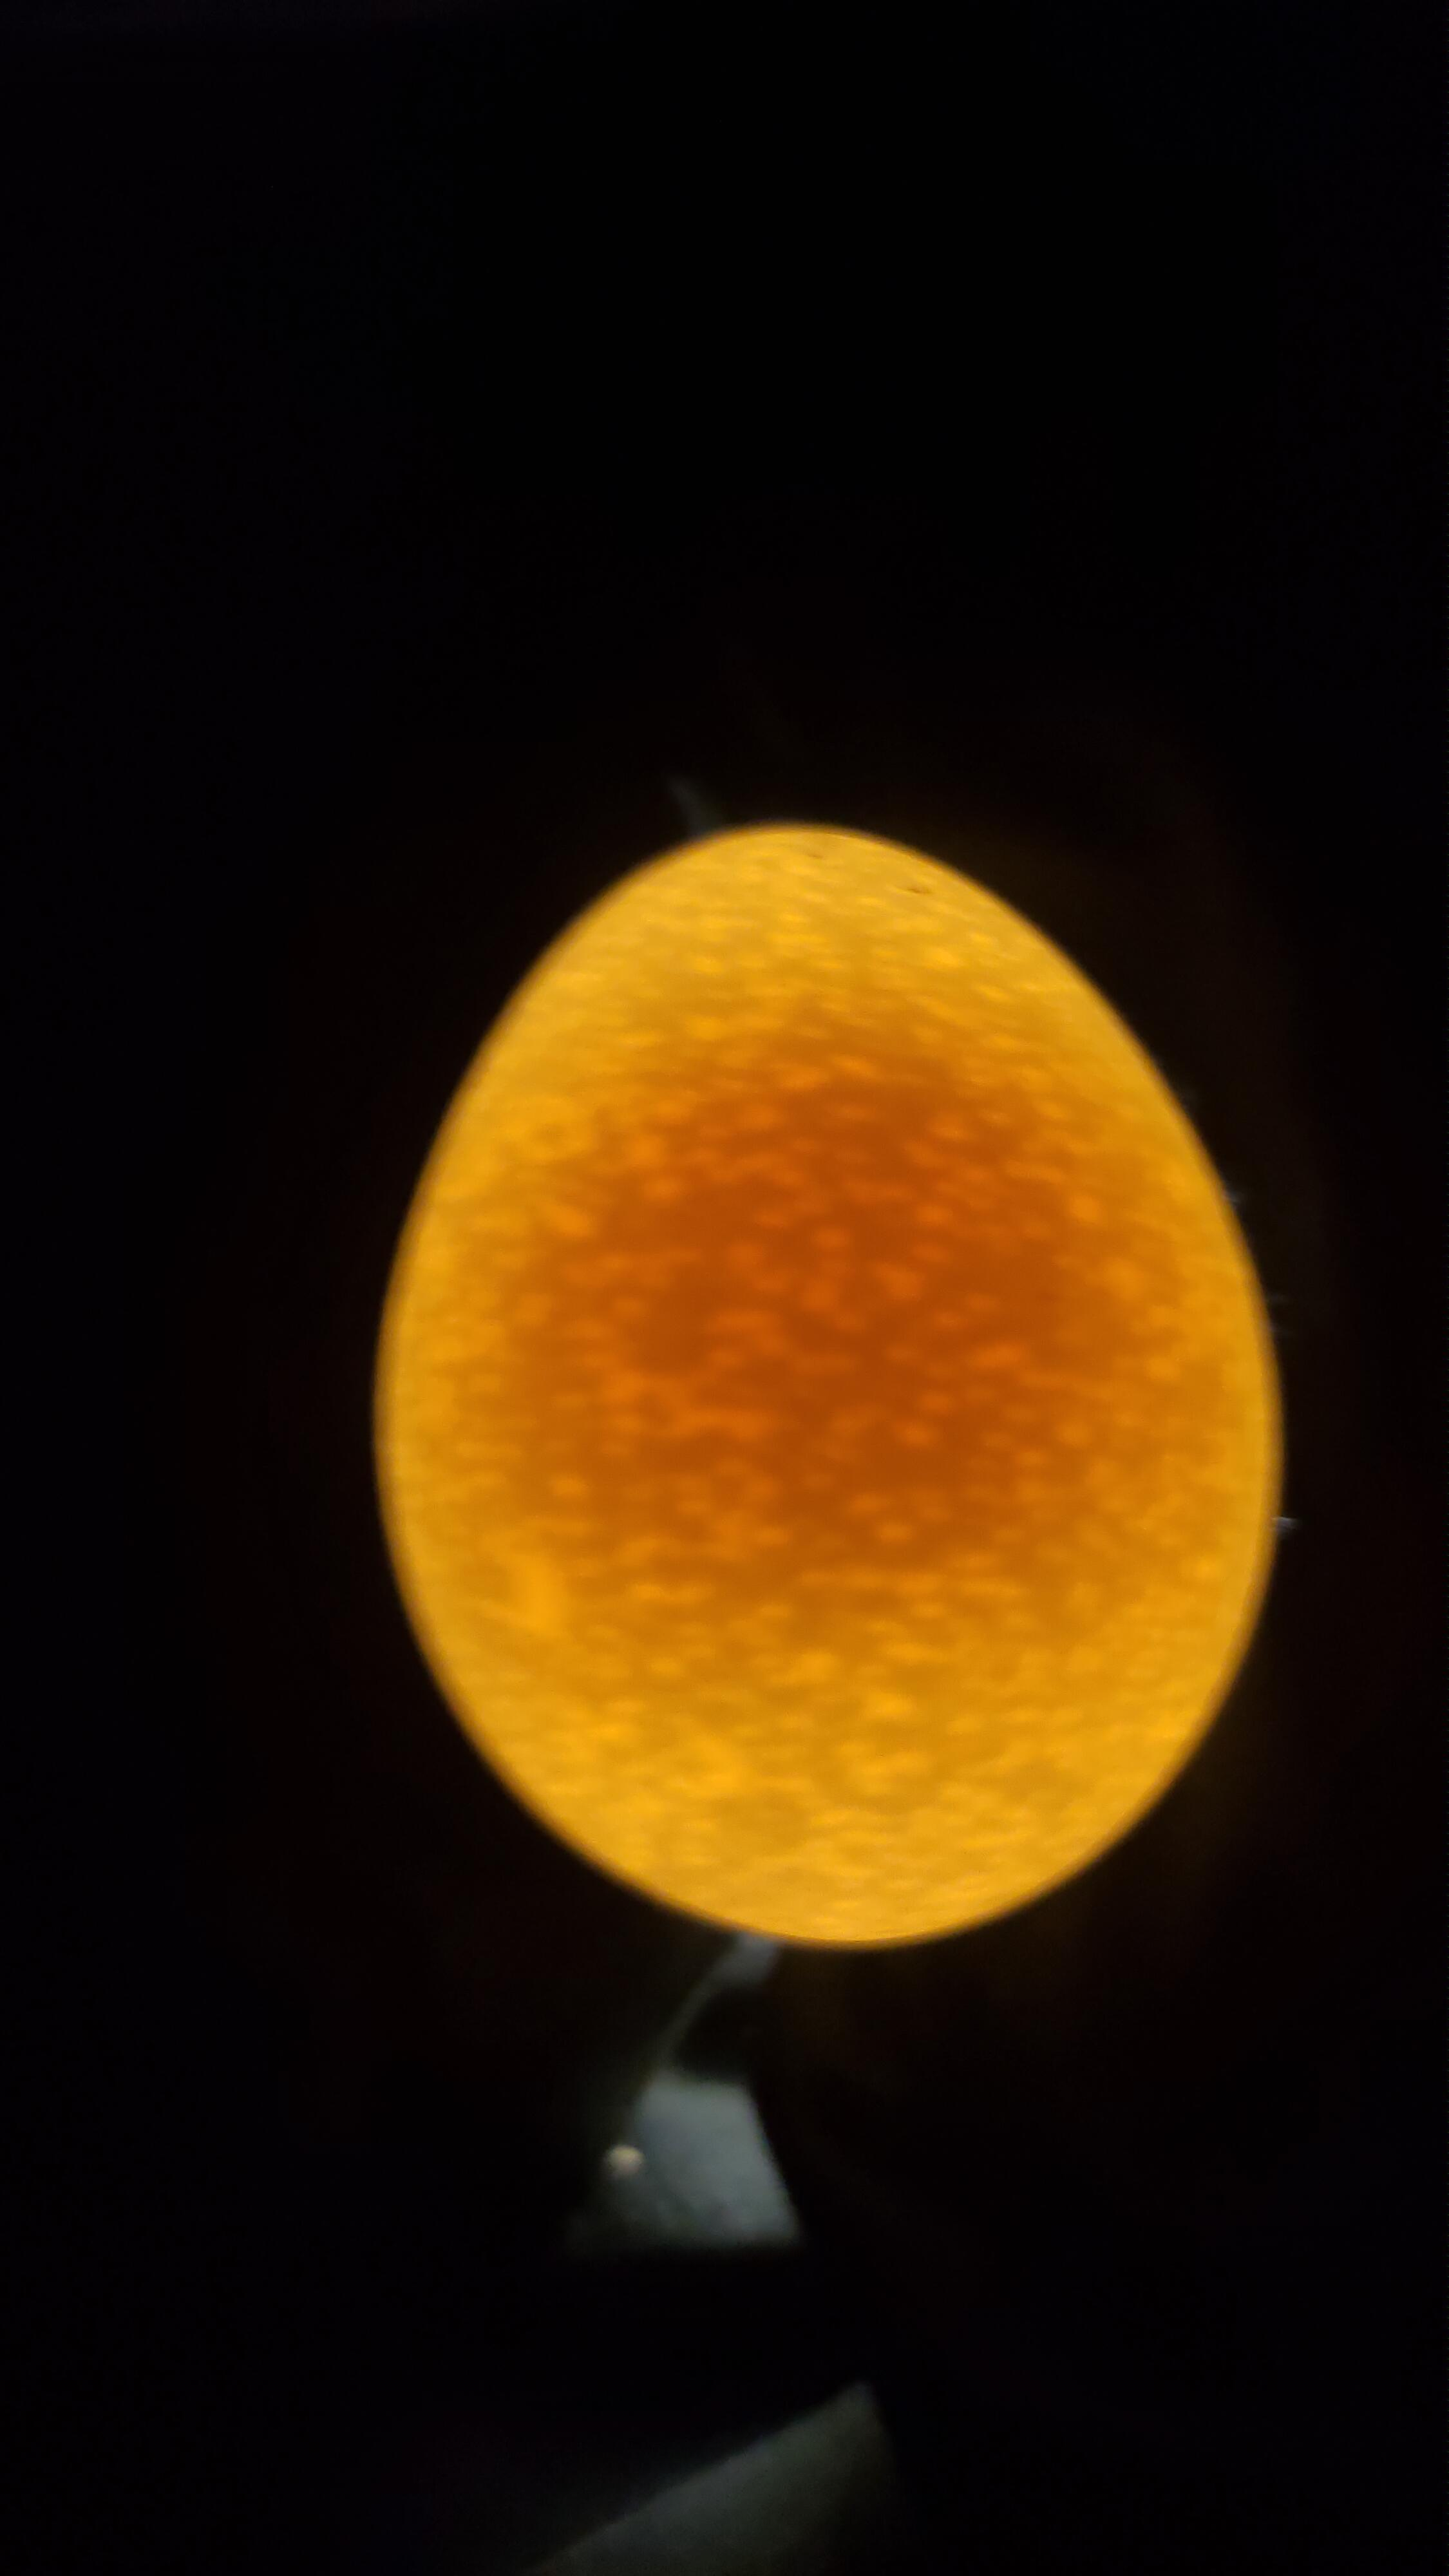A - Good: (315, 766, 1320, 1976)
